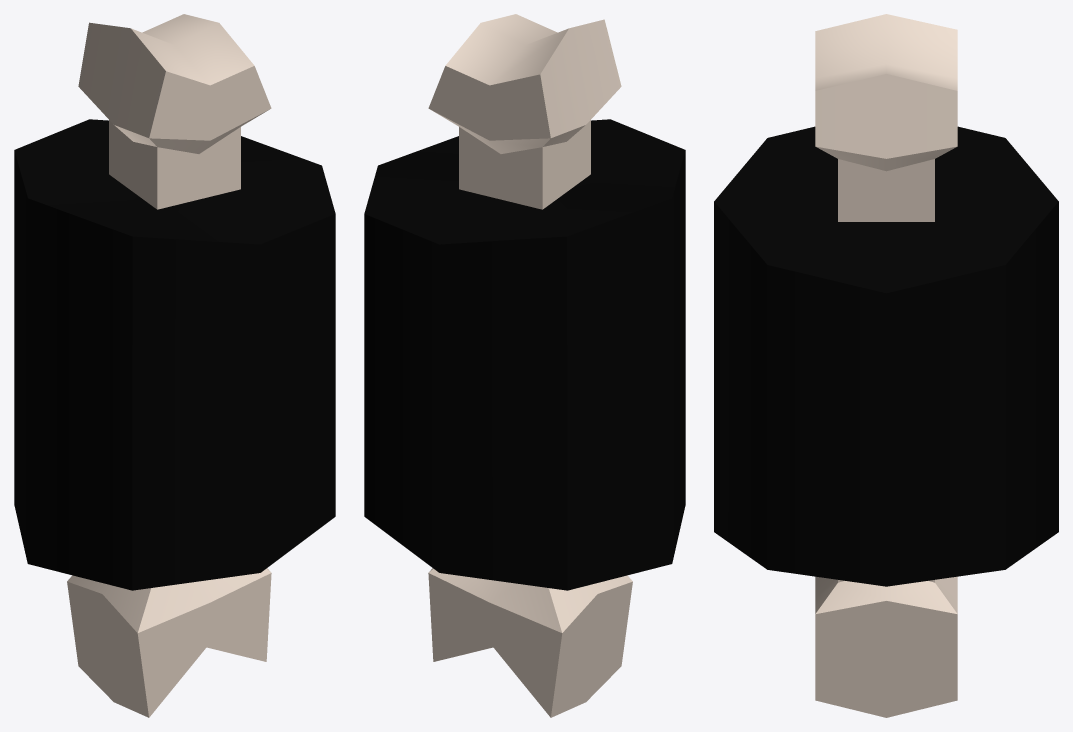
Rendered from CubeRoll_UI.fbx.
3 views of the same model, side by side, from view 1: azimuth 30°, elevation 25°; view 2: azimuth 150°, elevation 25°; view 3: azimuth 270°, elevation 25° (orthographic).
Visible parts, largest first — view 1: meat, bone; view 2: meat, bone; view 3: meat, bone.
Part boxes in pixels (<box>): meat: <box>14,119,335,590</box>; bone: <box>67,14,271,717</box>; meat: <box>364,119,685,590</box>; bone: <box>428,14,632,717</box>; meat: <box>714,126,1058,586</box>; bone: <box>815,14,957,717</box>.
Bounding box in the file's own units: 214 × 465 × 215.
